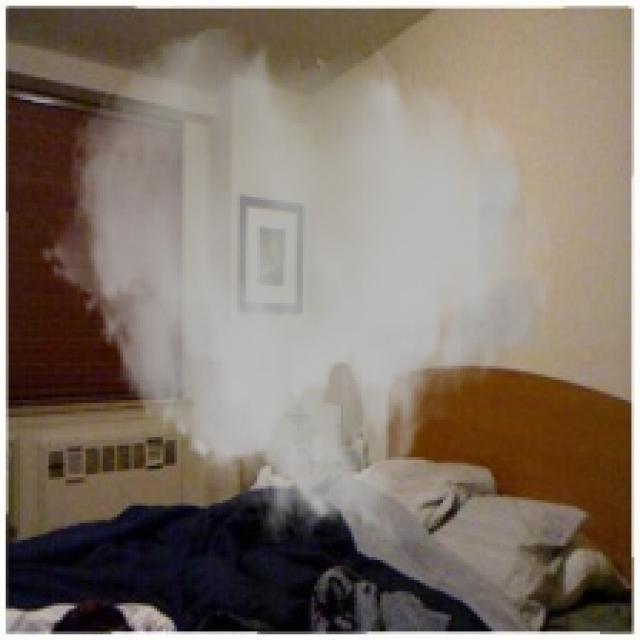Smoke: (40, 22, 557, 558)
